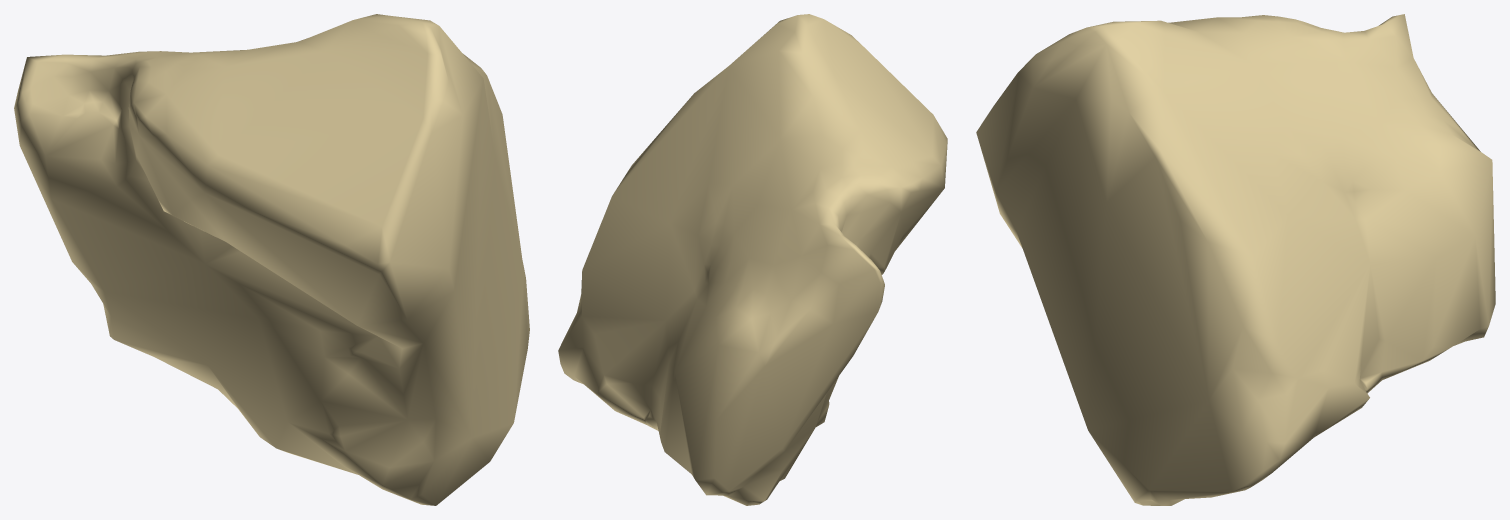
3 views of the same model, side by side, from view 1: azimuth 30°, elevation 25°; view 2: azimuth 150°, elevation 25°; view 3: azimuth 270°, elevation 25° (orthographic). The views are drawn at different scales.
Visible parts, largest first — view 1: 左侧外侧楔骨; view 2: 左侧外侧楔骨; view 3: 左侧外侧楔骨.
Boxes of the visible parts, x1,y1,x2,y2 form: 左侧外侧楔骨: (14,14,529,505); 左侧外侧楔骨: (558,14,947,505); 左侧外侧楔骨: (976,14,1495,505).
Size of the model in its own units: 0.0357 by 0.039 by 0.0396.
